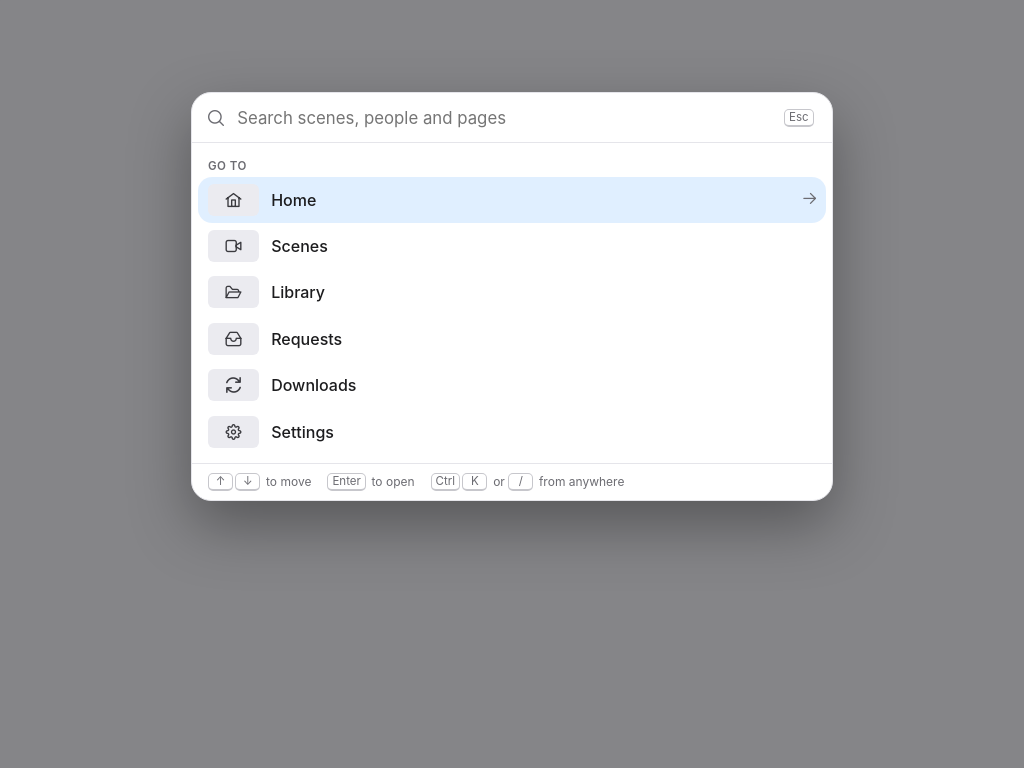
QuickSearchComponent › drops the last results as soon as you change the words
The width and height of the screenshot is (1024, 768).
Type "gold" into the dropdown with placeholder "Search scenes, people and pages" at (504, 118), box [235, 107, 773, 129]
Wait 250 ms
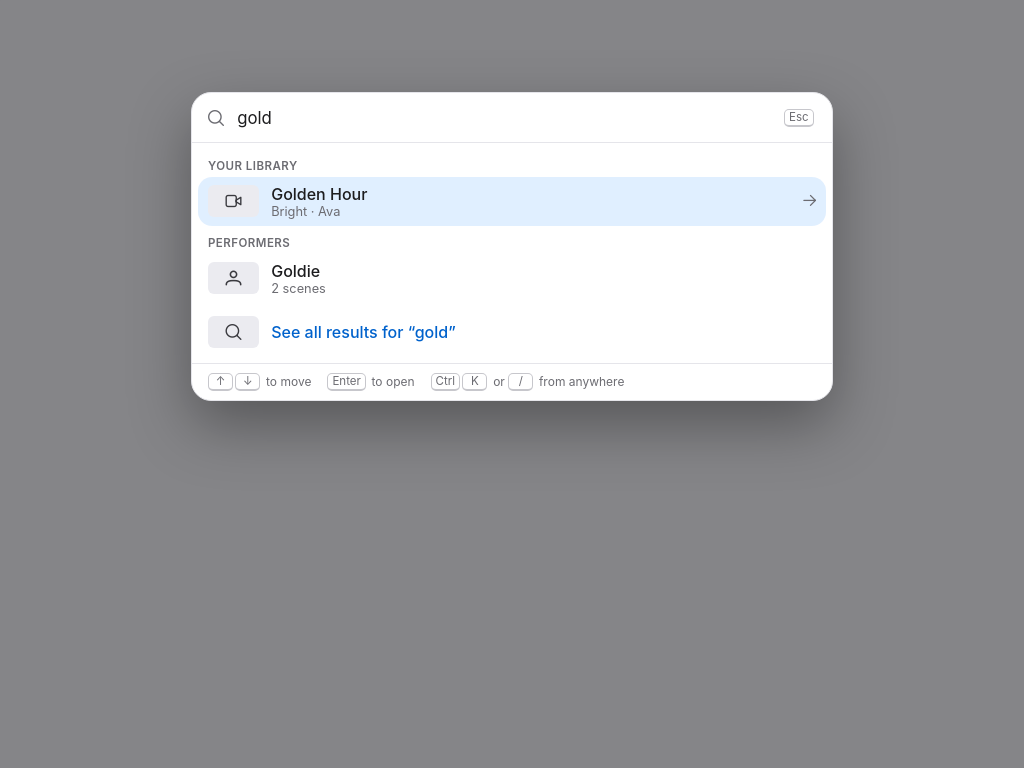
Result: the option with test id "quick-item-library" is shown at [198, 176, 826, 226]
Replace the text in the dropdown with "silver" at (504, 118), box [235, 107, 773, 129]
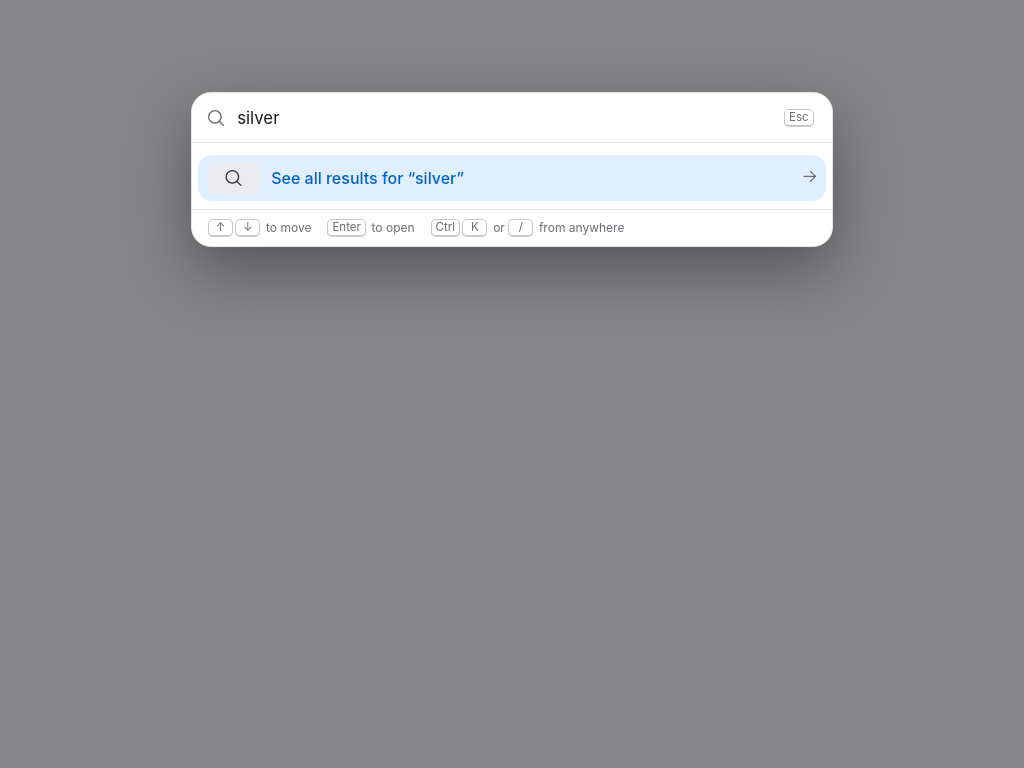
Result: the option with test id "quick-item-library" is gone
